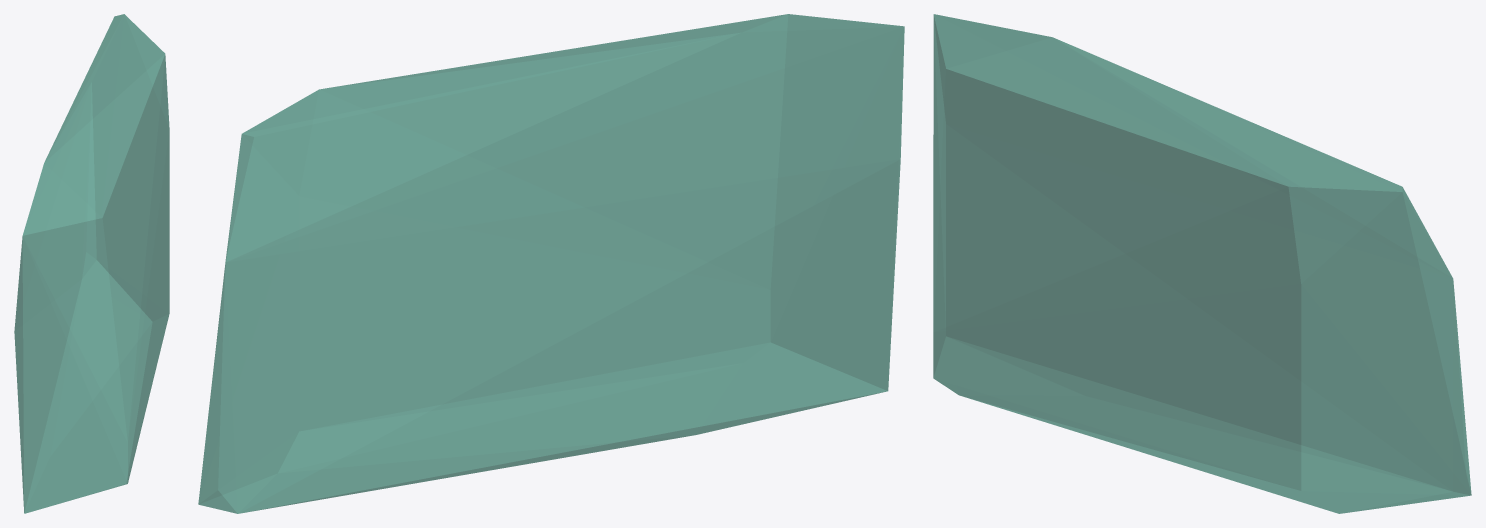
3 renders of one model, left to right at view 1: azimuth 30°, elevation 25°; view 2: azimuth 150°, elevation 25°; view 3: azimuth 270°, elevation 25°, orthographic. The views are drawn at different scales.
Parts seen in each view (by area): view 1: Shape_IndexedFaceSet.033_Shape_IndexedFaceSet.14066; view 2: Shape_IndexedFaceSet.033_Shape_IndexedFaceSet.14066; view 3: Shape_IndexedFaceSet.033_Shape_IndexedFaceSet.14066.
Part boxes in pixels (x1,y1,x2,y2): Shape_IndexedFaceSet.033_Shape_IndexedFaceSet.14066: [14, 14, 169, 513]; Shape_IndexedFaceSet.033_Shape_IndexedFaceSet.14066: [198, 14, 904, 513]; Shape_IndexedFaceSet.033_Shape_IndexedFaceSet.14066: [933, 14, 1471, 513].
Size of the model in its own units: 0.1081 by 0.1011 by 0.1419.
